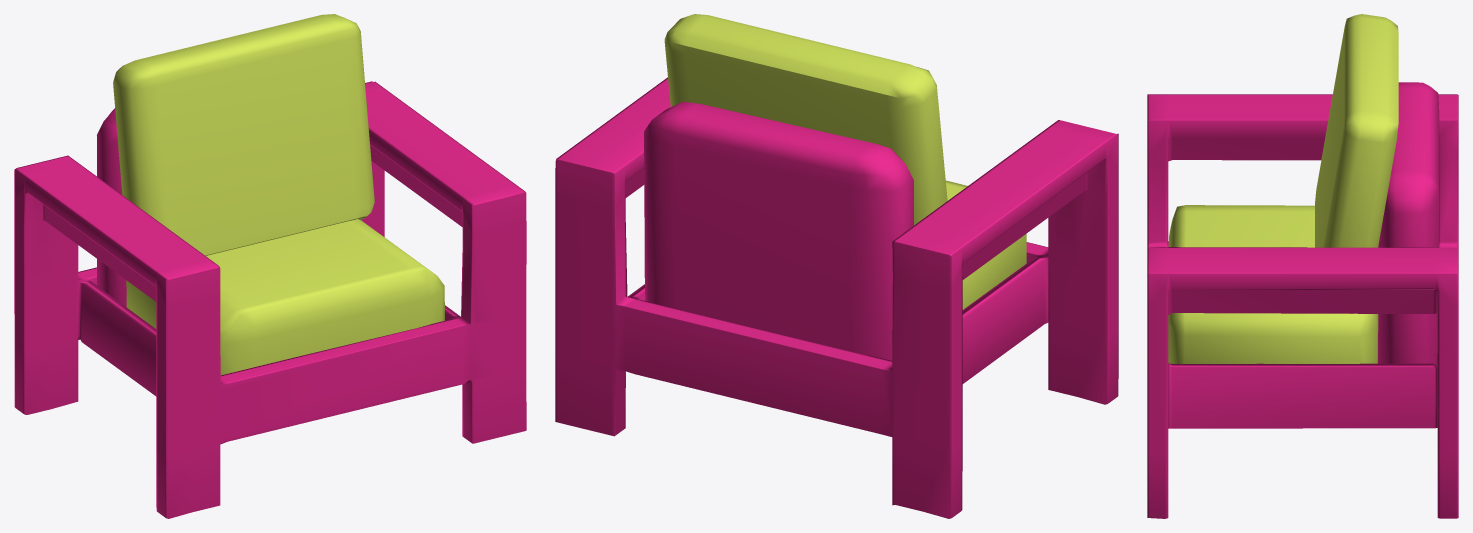
File: armchair.fbx
The picture shows the model from 3 angles, left to right: view 1: azimuth 30°, elevation 25°; view 2: azimuth 150°, elevation 25°; view 3: azimuth 270°, elevation 25°; orthographic projection. The views are drawn at different scales.
Parts seen in each view (by area): view 1: armchair; view 2: armchair; view 3: armchair.
Boxes of the visible parts, x1,y1,x2,y2 form: armchair: (14, 14, 526, 518); armchair: (555, 14, 1118, 518); armchair: (1147, 14, 1458, 518).
Size of the model in its own units: 118 by 112 by 86.64.
